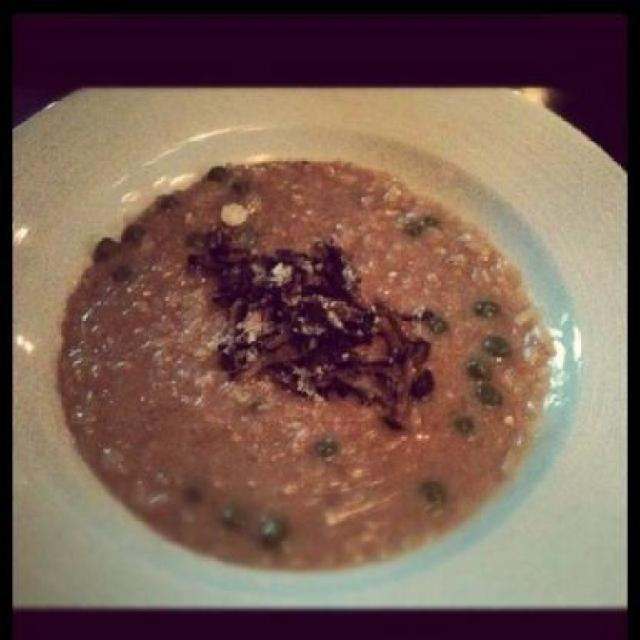Risotto: (76, 156, 578, 550)
